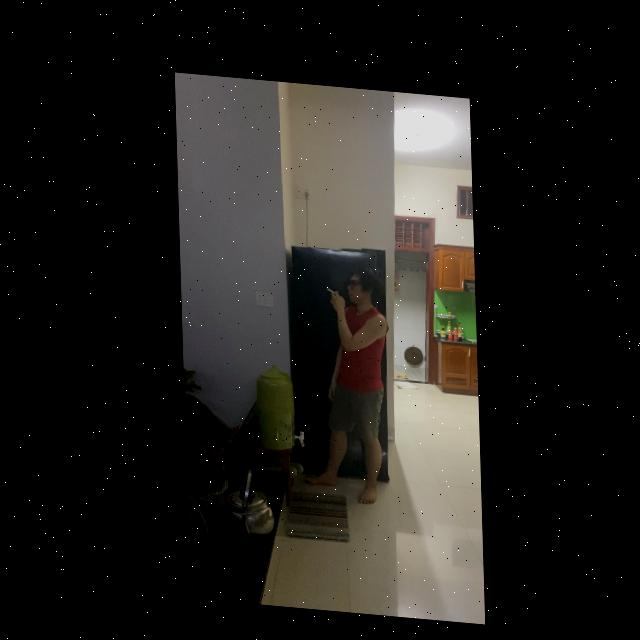cigarette: (325, 283, 333, 288)
